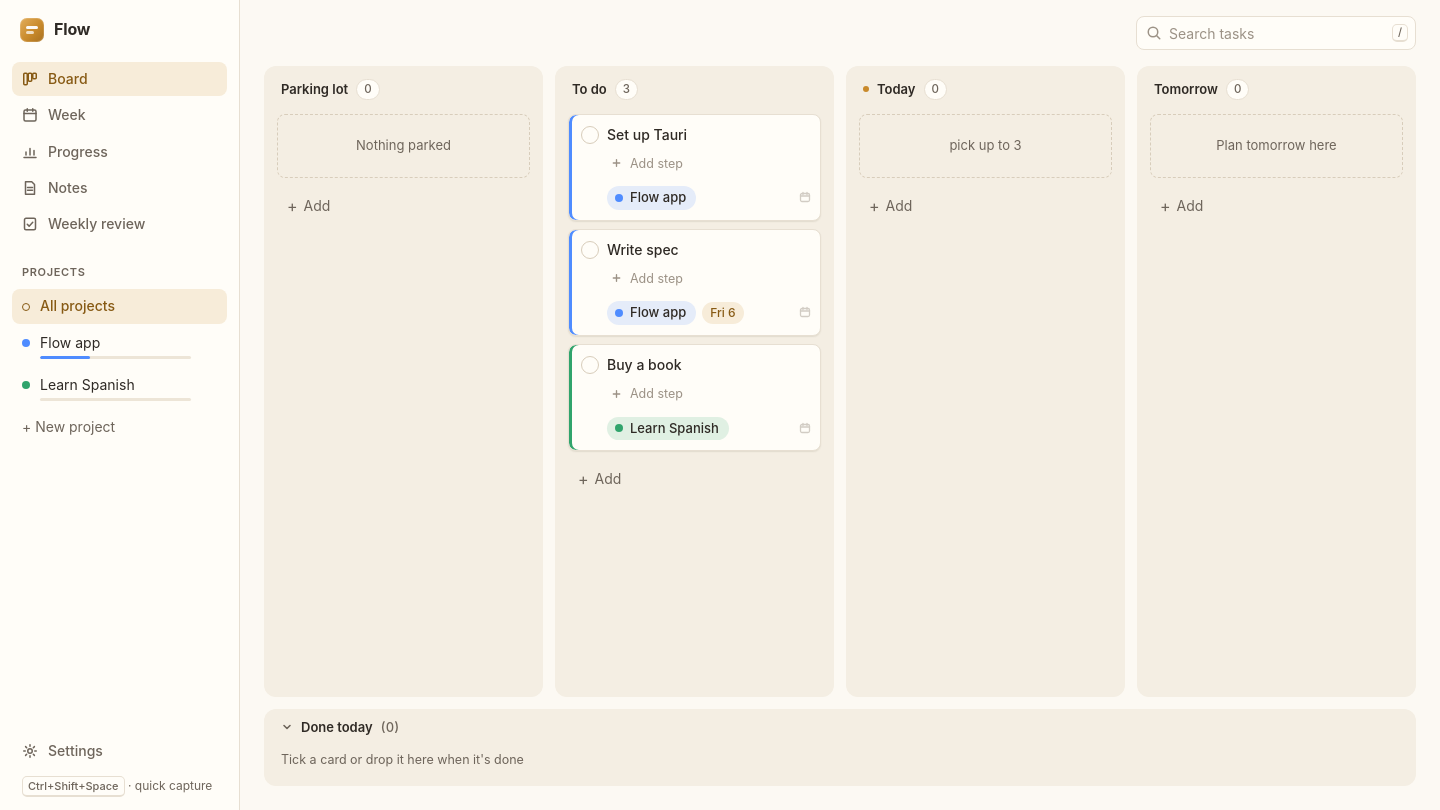
Test: Week view › navigates to previous and next weeks and back to this week
Expected: the button "Buy a book" is shown, [607,355,810,375]
Type keys "w"
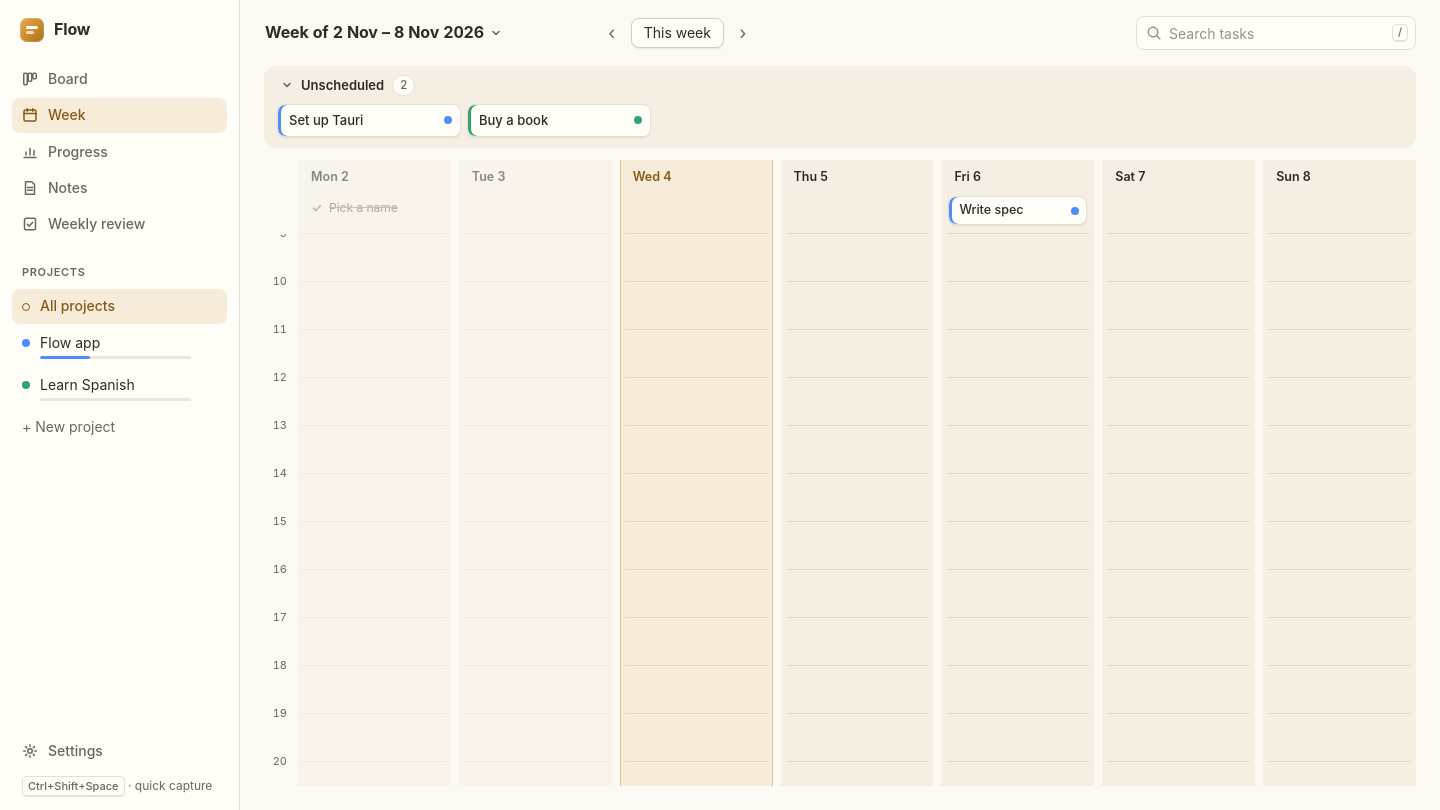
Click the button named "Next week" at (743, 33), box [728,18,758,48]
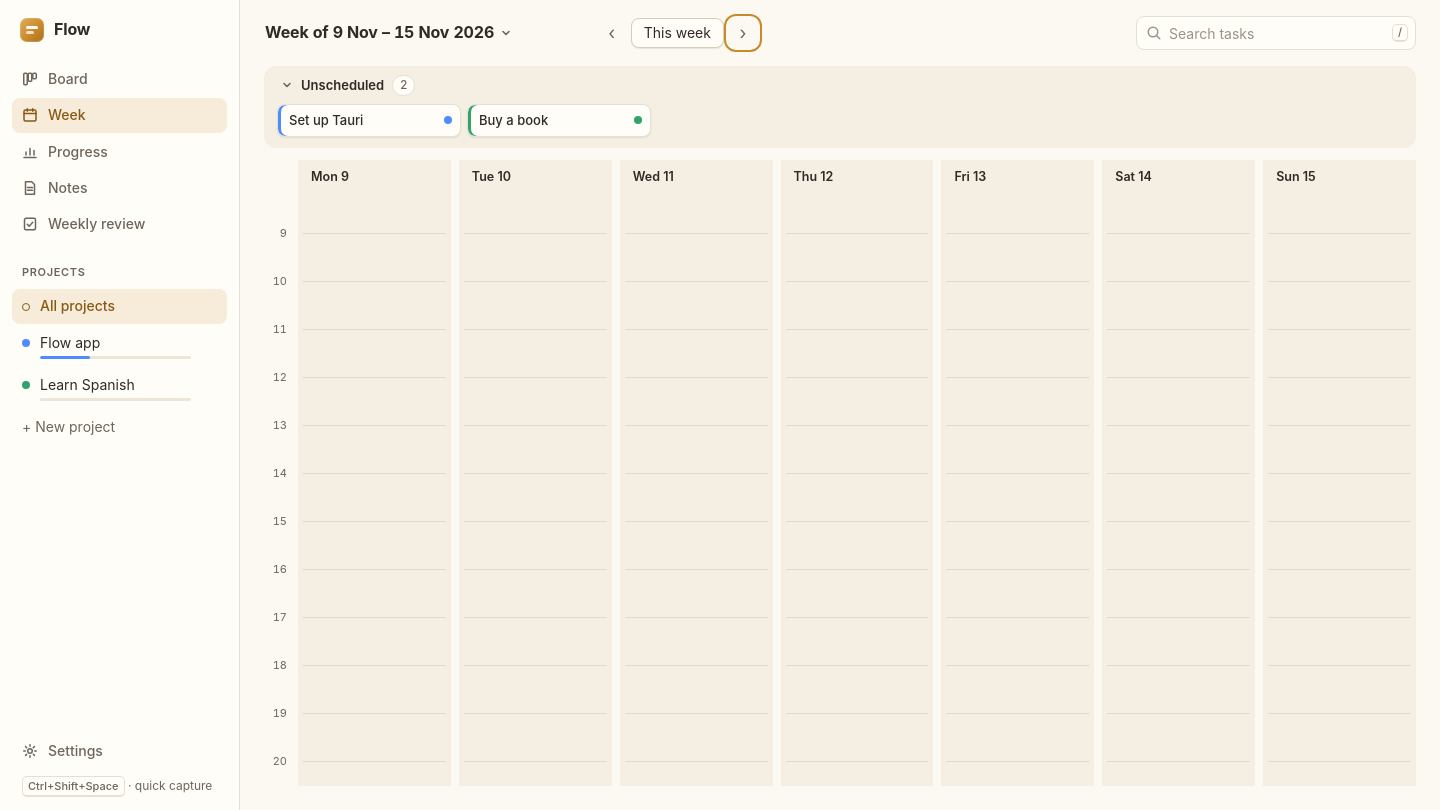
Now the heading "Week of 9 Nov – 15 Nov 2026" is shown, box [264,16,581,50]
Click the button named "Previous week" at (612, 33), box [597,18,627,48]
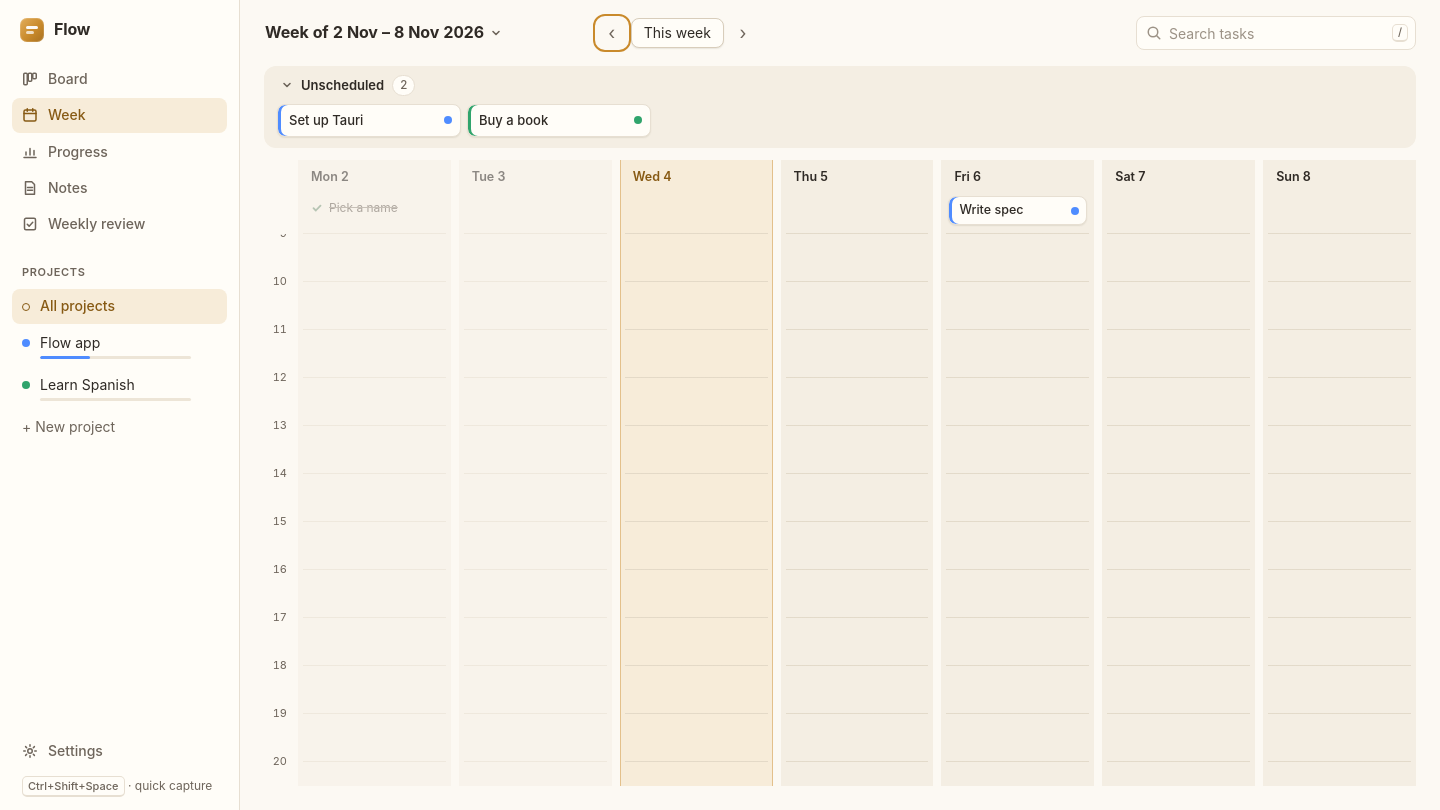
Click the button named "Previous week" at (612, 33), box [597,18,627,48]
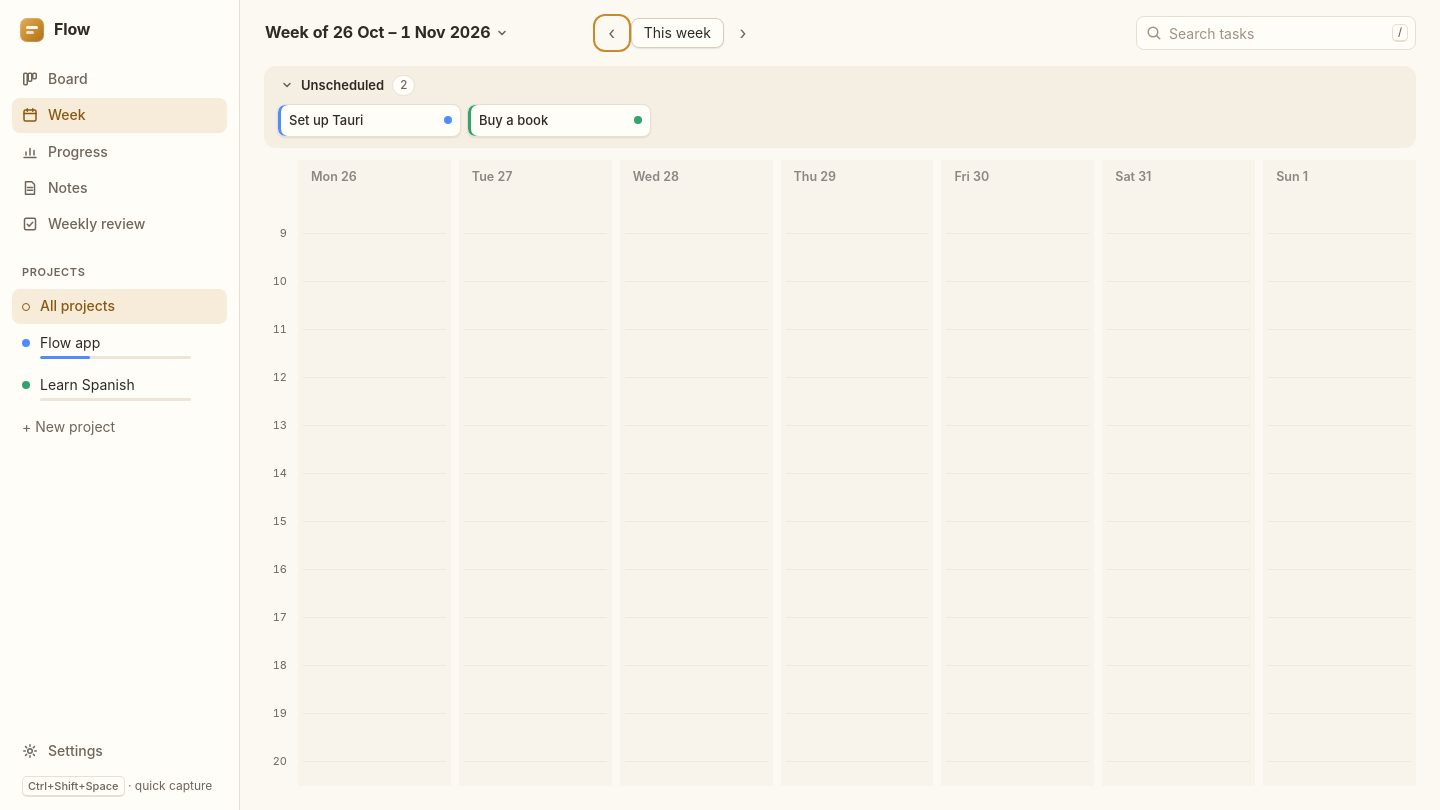
Now the heading "Week of 26 Oct – 1 Nov 2026" is shown, box [264,16,581,50]
Click the button "This week" at (677, 33), box [631,18,724,48]
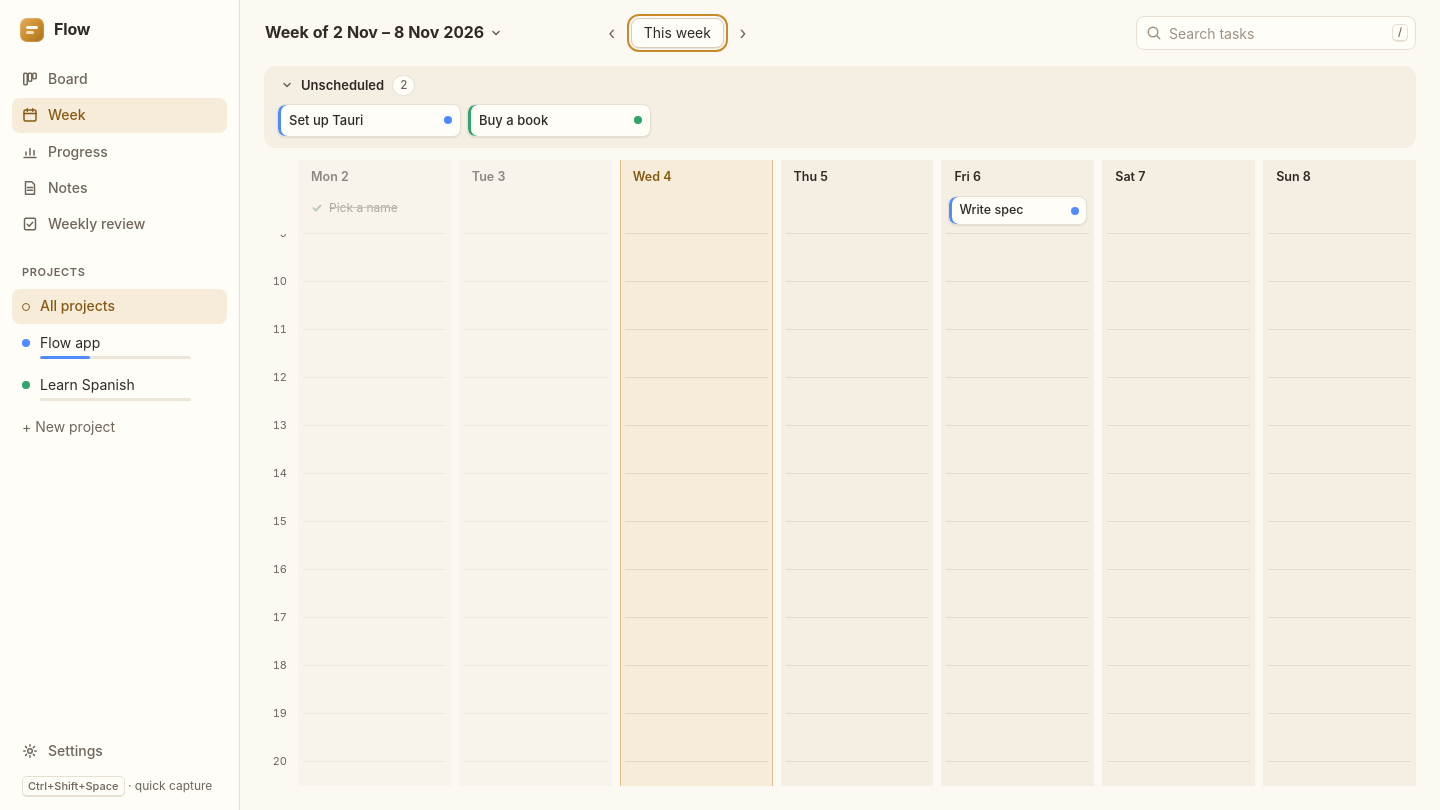
Now the heading "Week of 2 Nov – 8 Nov 2026" is shown, box [264,16,581,50]
